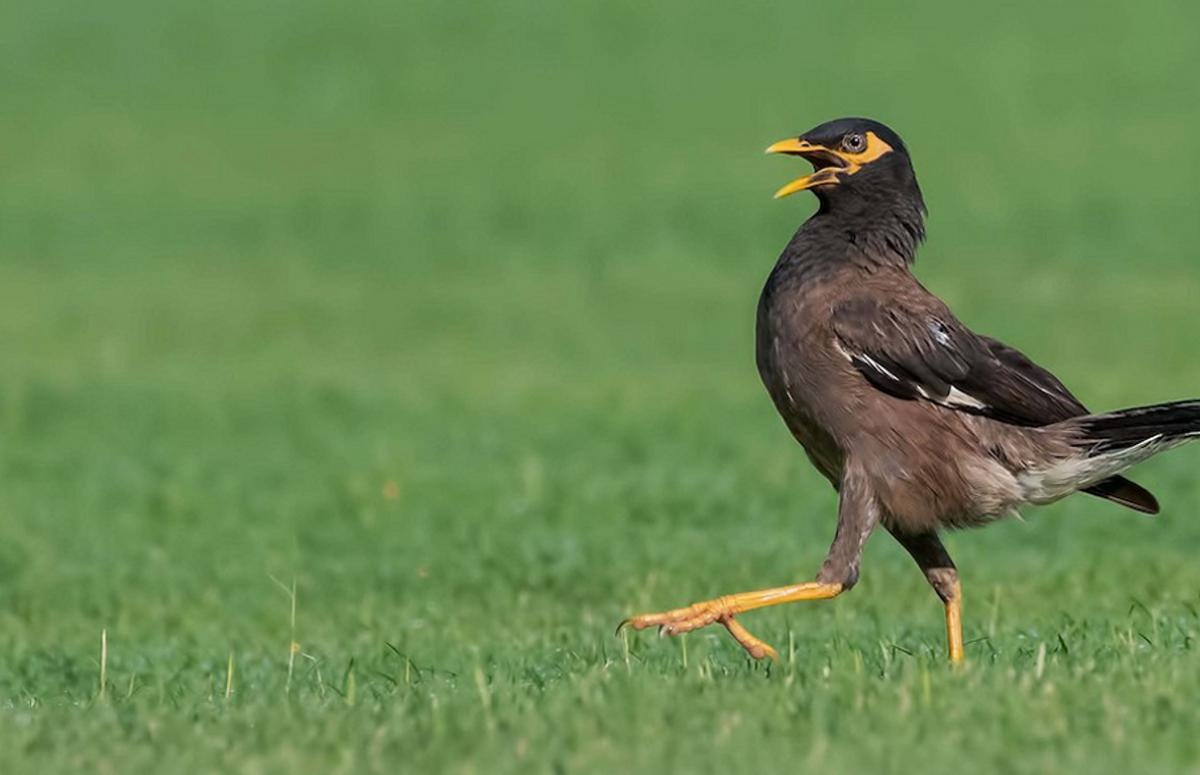myna: (684, 80, 1125, 724)
